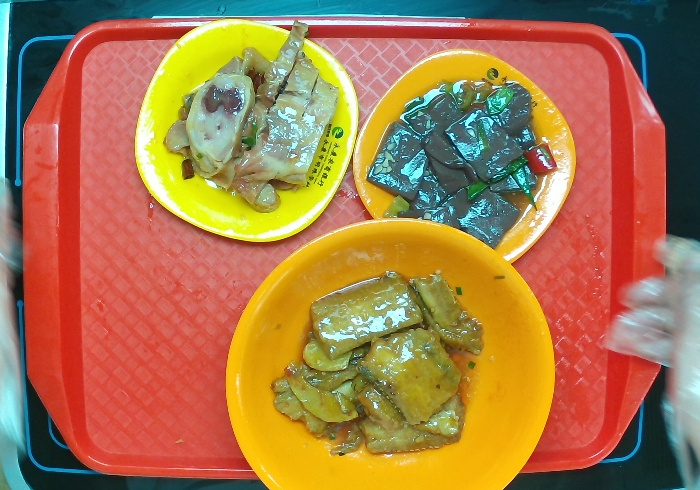YKMZ-Huang_Se_Fang_Die: (133, 17, 360, 244)
YKMZ-Ju_Se_Fang_Die: (351, 47, 577, 265)
YKMZ-Ju_Se_Tang_Wan: (224, 216, 557, 490)
